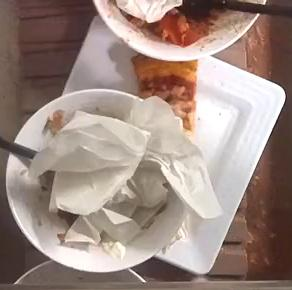pizza: (132, 55, 198, 136)
